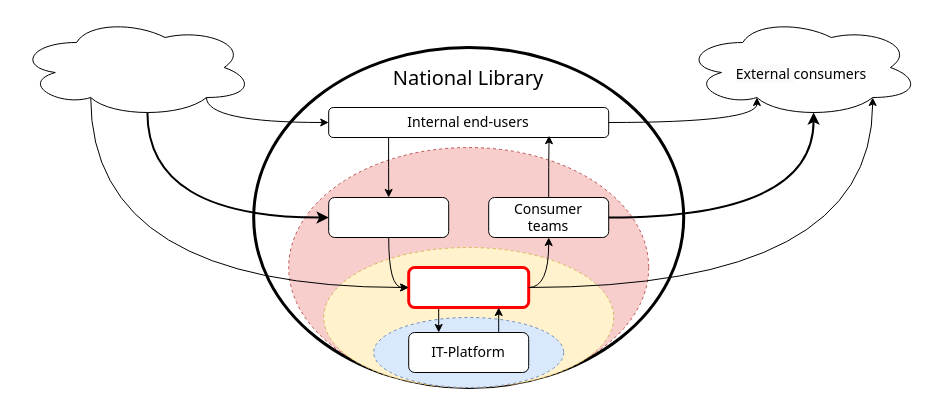
Image size: 938x406. Some labels were removed from this diagram. Each missing label, with the centre of its shape:
DPS: the point at 468,287
External producers: the point at 135,67
Production teams: the point at 388,217
